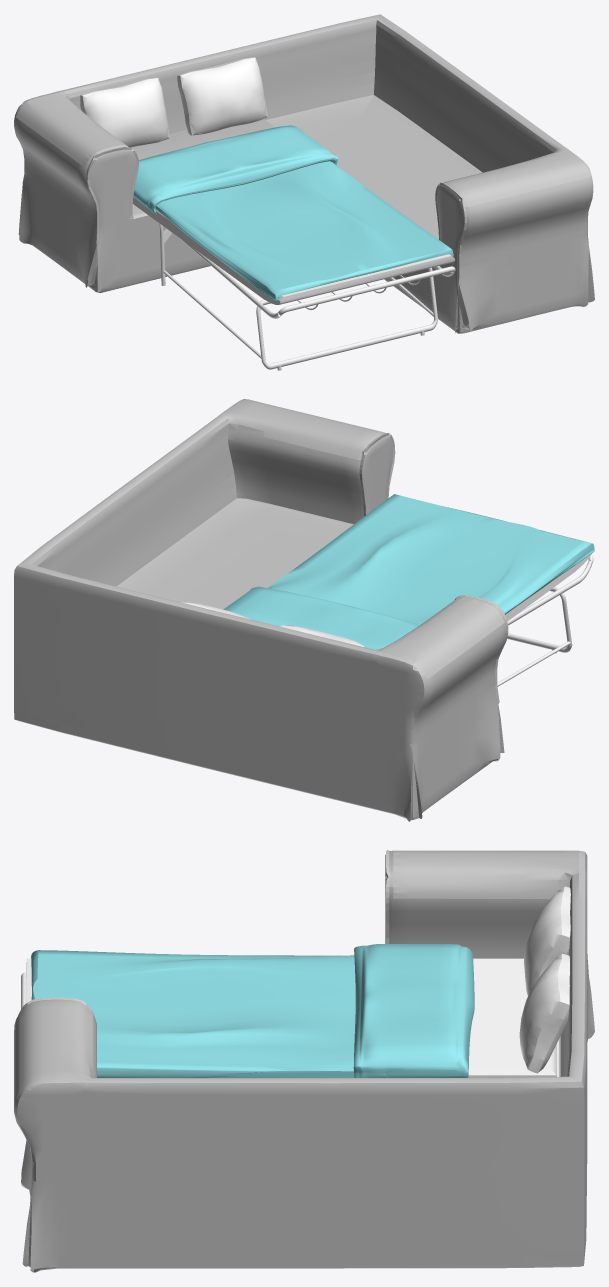
Rendered from IKEA-Ektorp_2_Seat_Corner_Bed_Sofa-3D.obj.
3 renders of one model, top to bottom at view 1: azimuth 30°, elevation 25°; view 2: azimuth 150°, elevation 25°; view 3: azimuth 270°, elevation 25°, orthographic. The views are drawn at different scales.
Parts seen in each view (by area): view 1: Box01, Object02, Object03, Loft13, Rectangle1; view 2: Box01, Object02, Loft13, Rectangle1, Object03; view 3: Box01, Object02, Rectangle1, Object03.
Boxes of the visible parts, left/top/right/bottom form: Box01: left=14, top=14, right=594, bottom=333; Object02: left=133, top=125, right=453, bottom=301; Object03: left=80, top=57, right=267, bottom=147; Loft13: left=151, top=212, right=455, bottom=370; Rectangle1: left=131, top=119, right=454, bottom=304; Box01: left=14, top=399, right=508, bottom=821; Object02: left=223, top=494, right=594, bottom=649; Loft13: left=497, top=554, right=593, bottom=686; Rectangle1: left=505, top=540, right=591, bottom=621; Object03: left=178, top=601, right=364, bottom=647; Box01: left=14, top=850, right=594, bottom=1272; Object02: left=31, top=944, right=474, bottom=1077; Rectangle1: left=26, top=958, right=559, bottom=1077; Object03: left=519, top=886, right=570, bottom=1073.
Bounding box in the file's own units: 6432 × 2406 × 6432.
